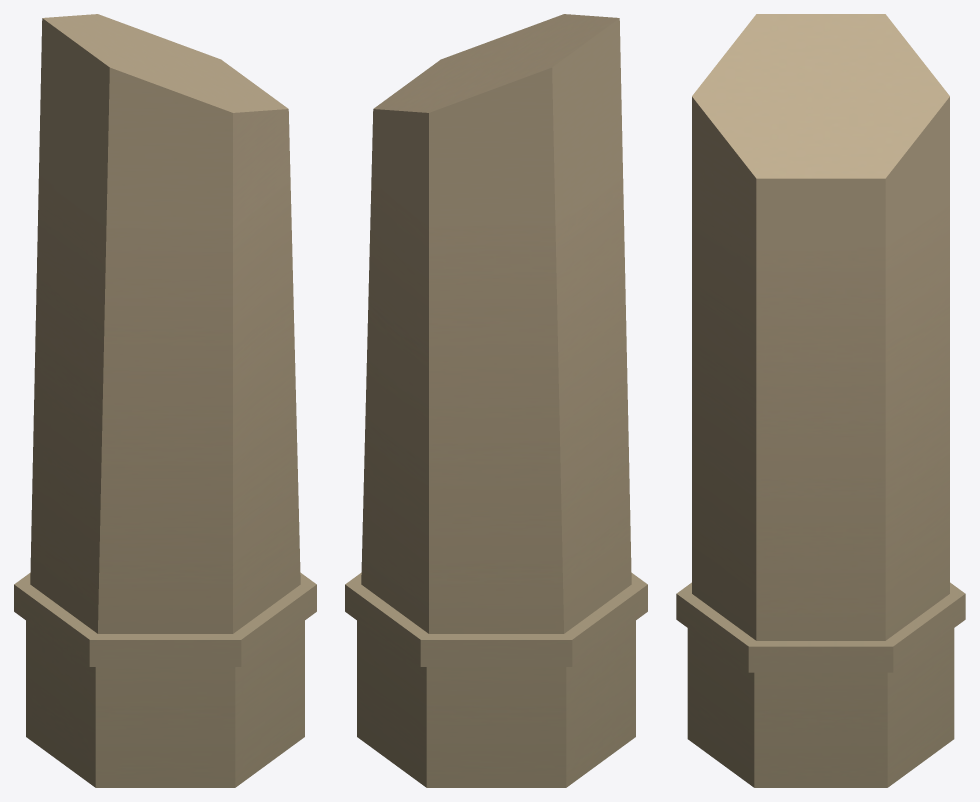
File: Rock+2.fbx
3 views of the same model, side by side, from view 1: azimuth 30°, elevation 25°; view 2: azimuth 150°, elevation 25°; view 3: azimuth 270°, elevation 25° (orthographic). The views are drawn at different scales.
Parts seen in each view (by area): view 1: Rock 2; view 2: Rock 2; view 3: Rock 2.
Boxes of the visible parts, bbox=[...] form: Rock 2: bbox=[14, 14, 316, 787]; Rock 2: bbox=[345, 14, 647, 787]; Rock 2: bbox=[676, 14, 965, 787].
Bounding box in the file's own units: 64.2 × 193 × 74.13.
